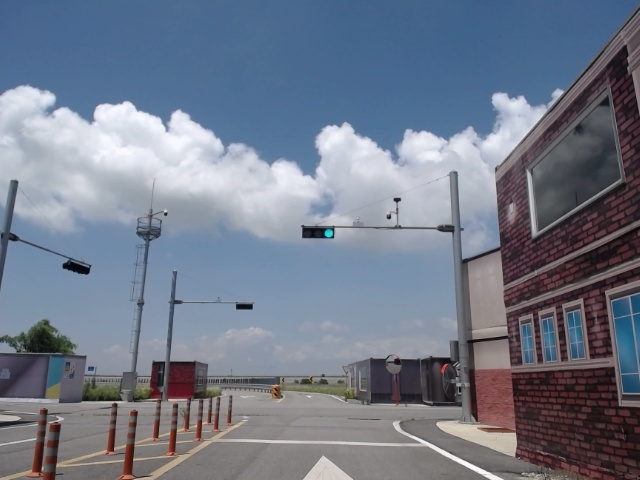green_3: (304, 227, 334, 238)
